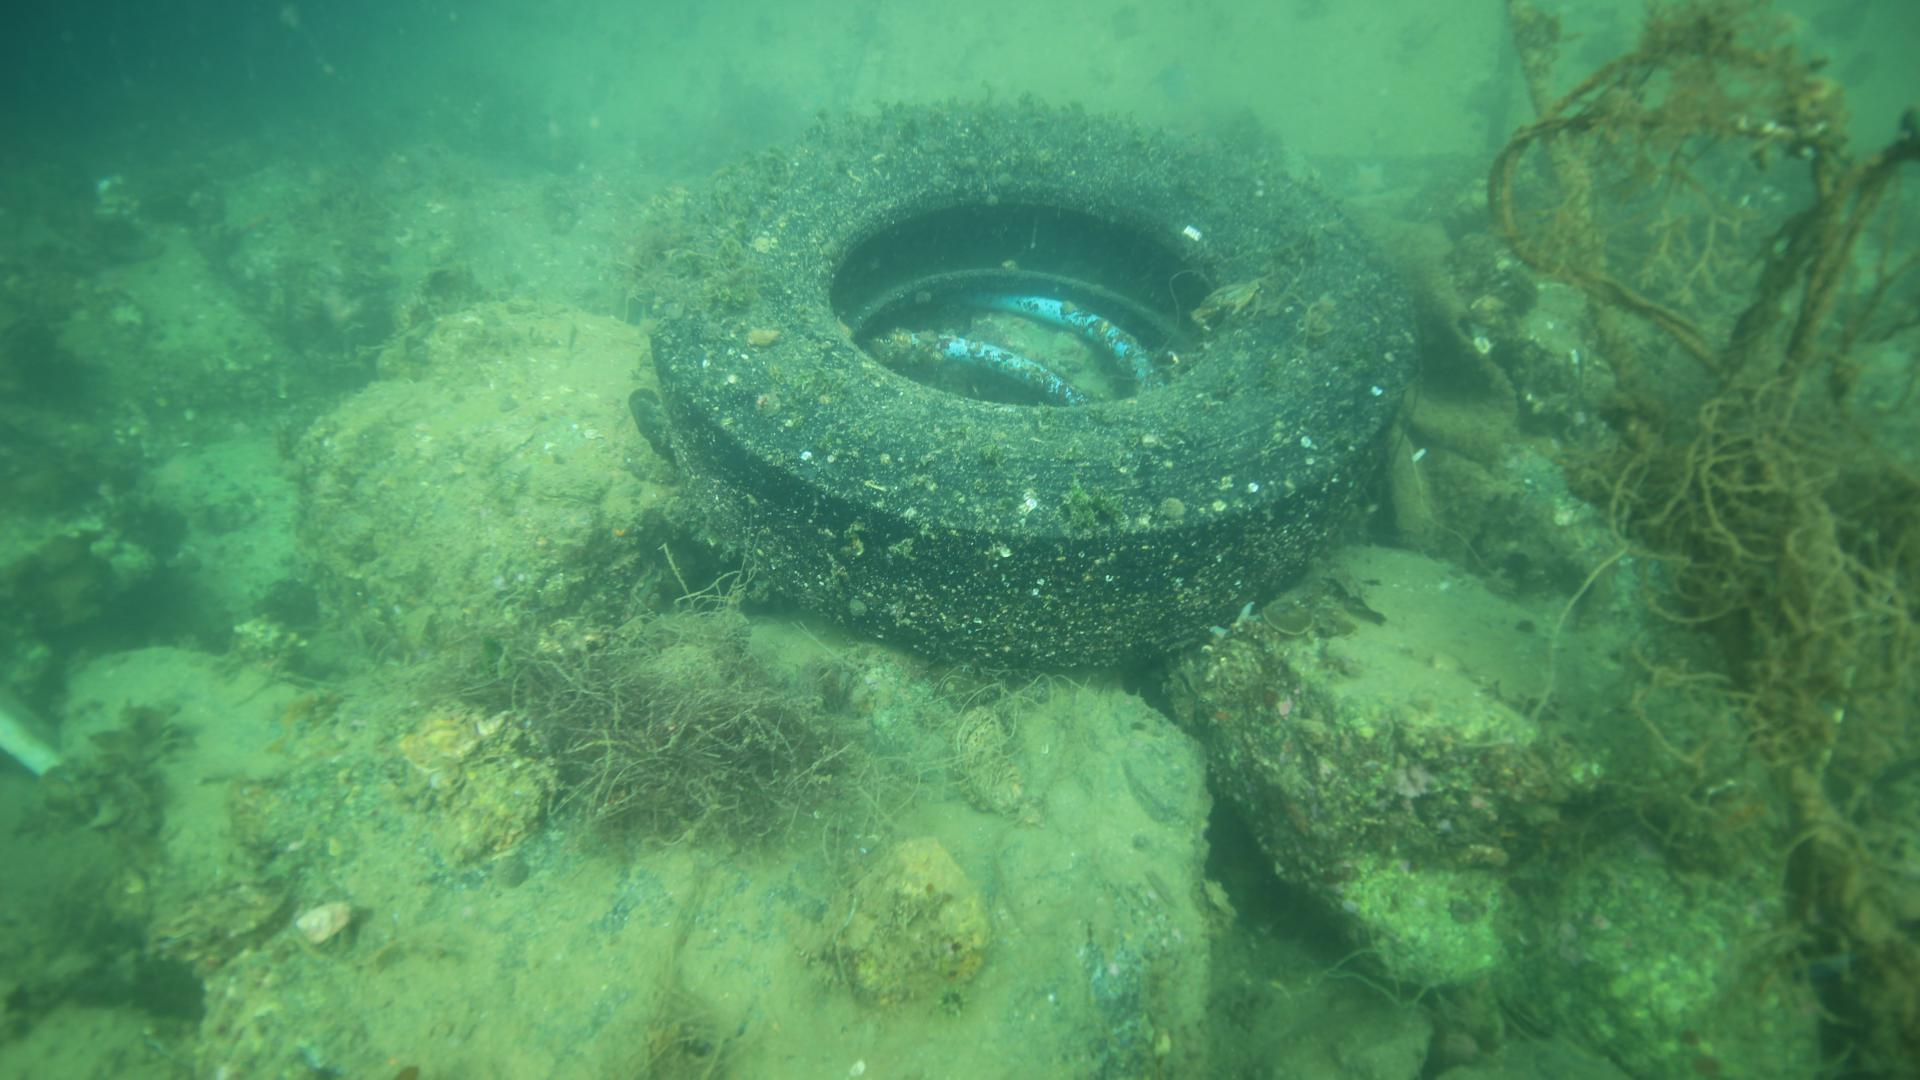tire: (644, 104, 1429, 670)
